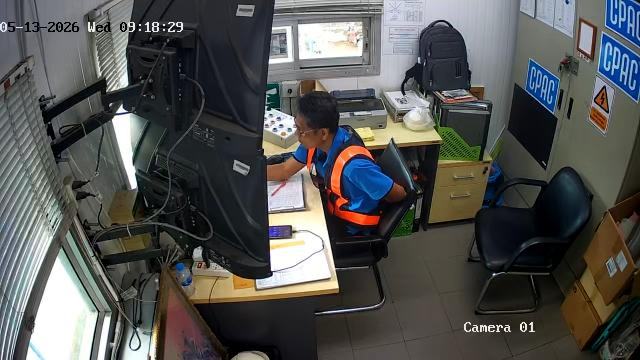Head: (295, 92, 339, 150)
People: (267, 92, 406, 235)
Phone: (268, 225, 293, 240)
